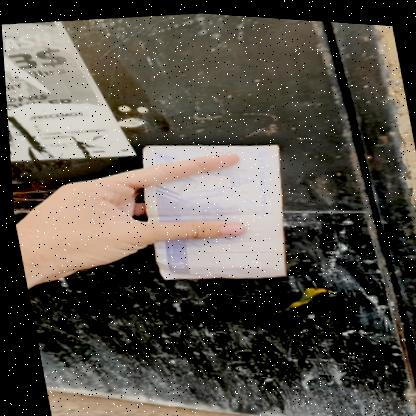ten-back-vef: (131, 124, 301, 289)
